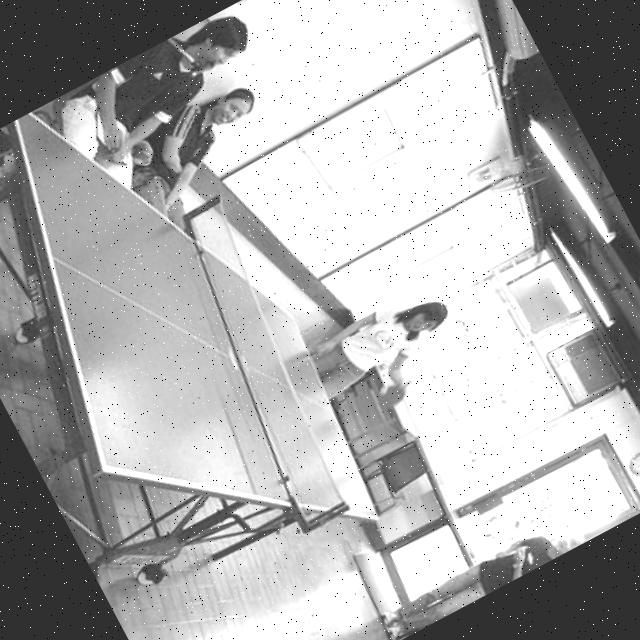ping-pong-ball: (376, 384, 389, 396)
